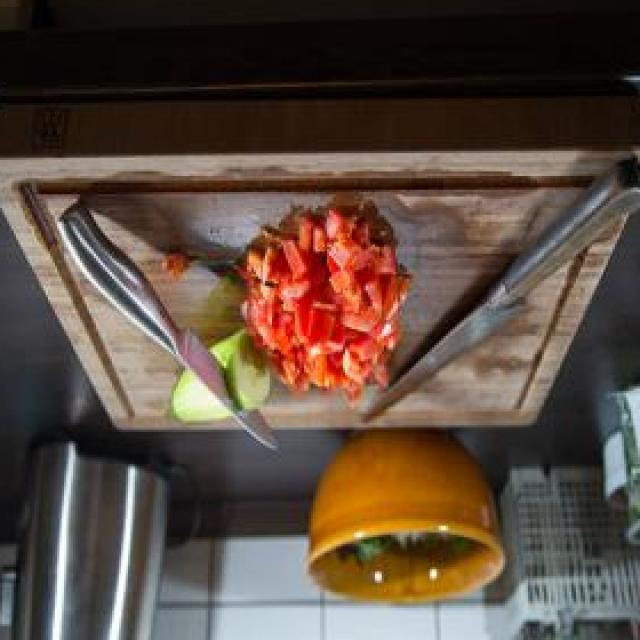knife: (361, 156, 640, 428), (57, 193, 281, 453)
